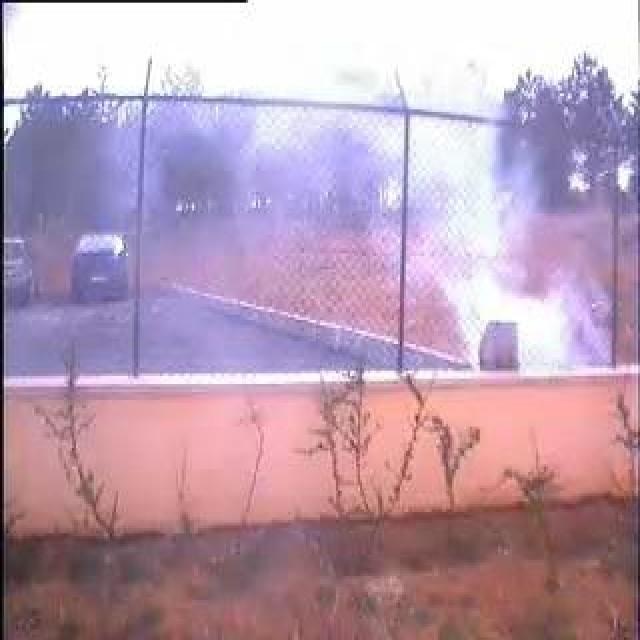Smoke: (259, 77, 613, 371)
